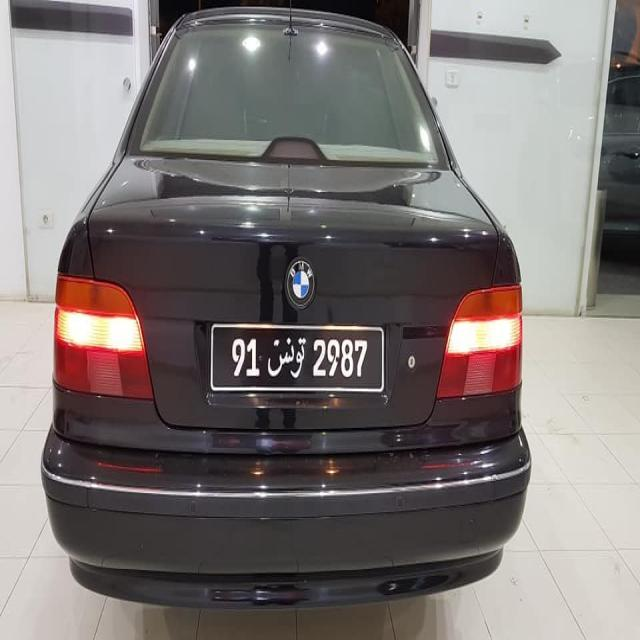LP: (204, 320, 388, 399)
